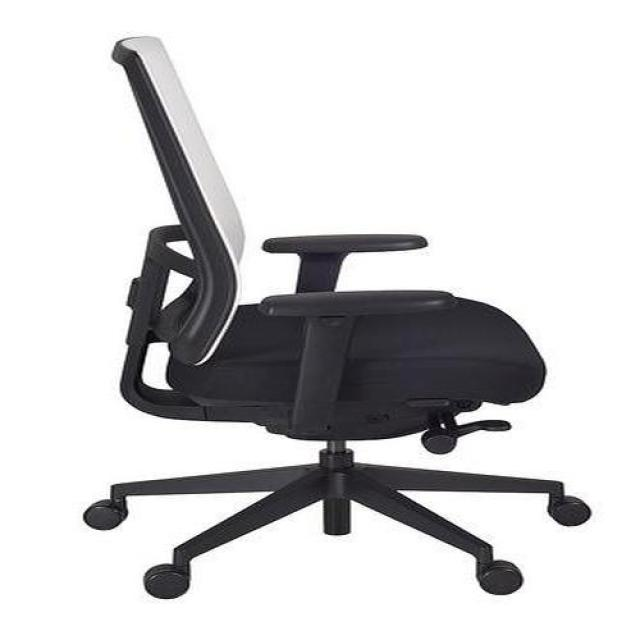swivelchair: (84, 36, 593, 603)
